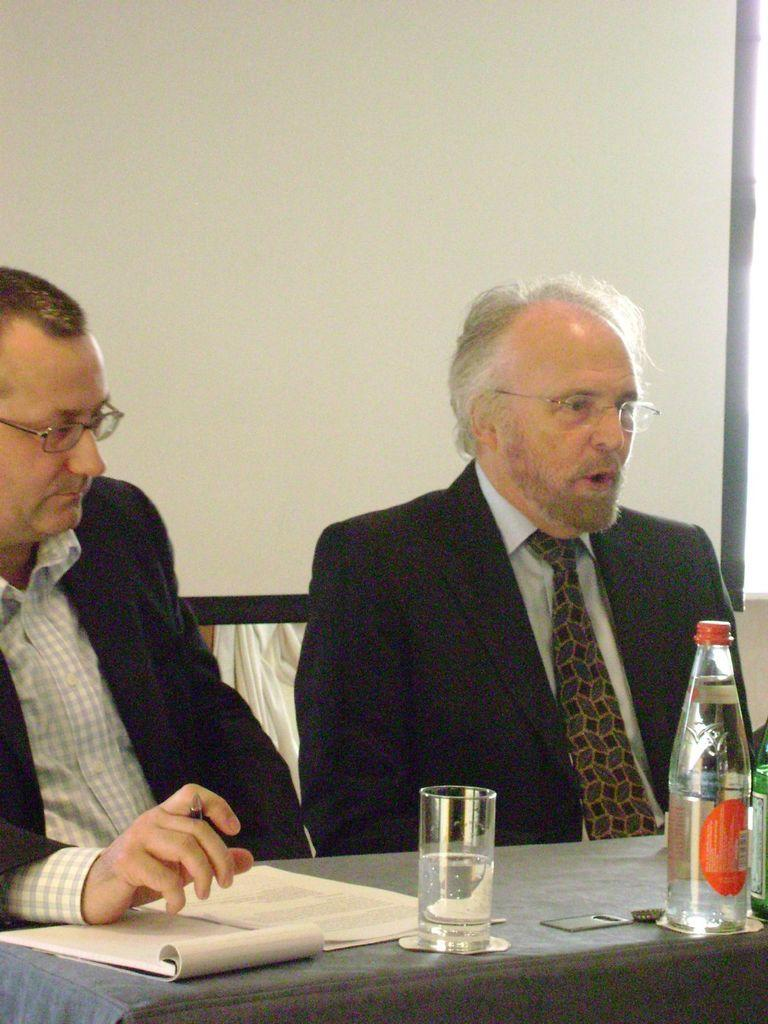no_helmet: (428, 258, 595, 368), (93, 259, 179, 370)
none: (346, 491, 632, 787), (92, 534, 280, 848)
